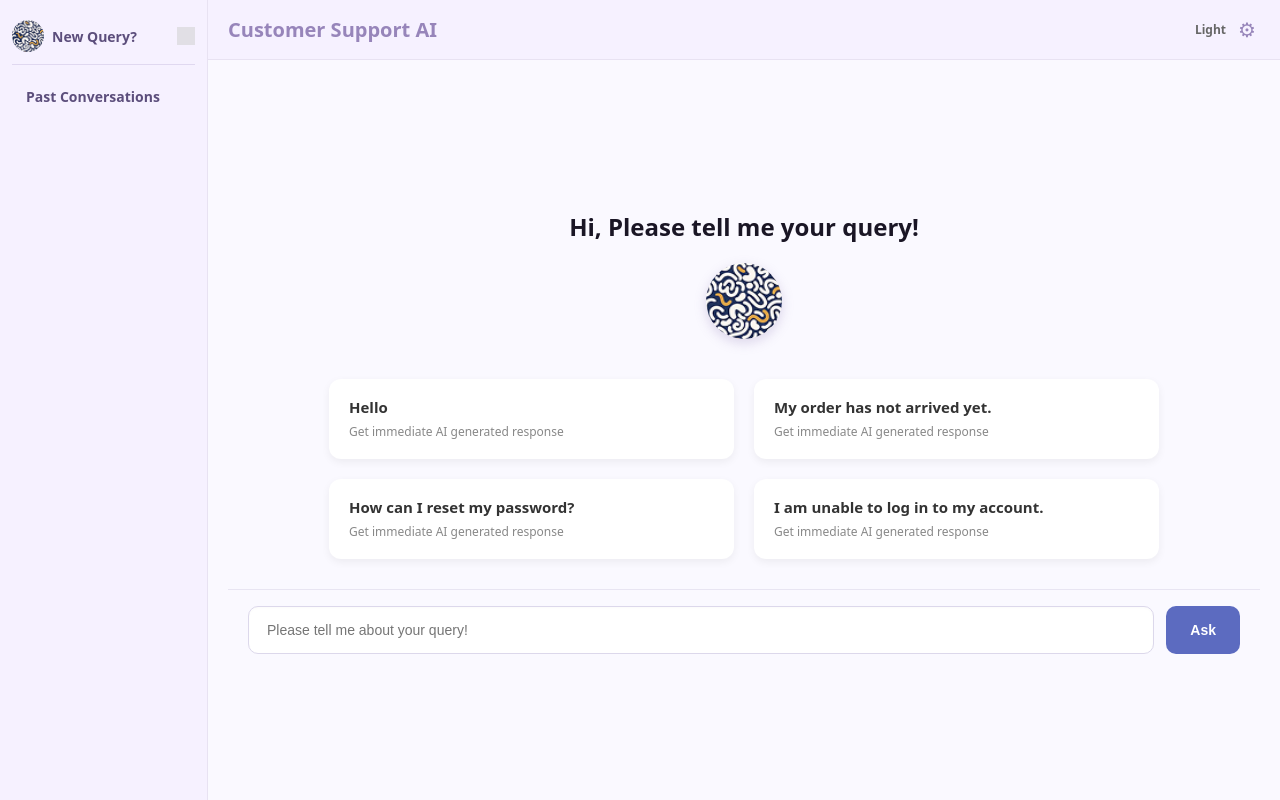
Test case: Customer Support AI - Full Test Suite › should return the correct static JSON response for contact support query
Type "How do I contact customer support?" into the field with placeholder "Please tell me about your query!".
click(701, 630); type("How do I contact customer support?")  # box [248,606,1154,654]
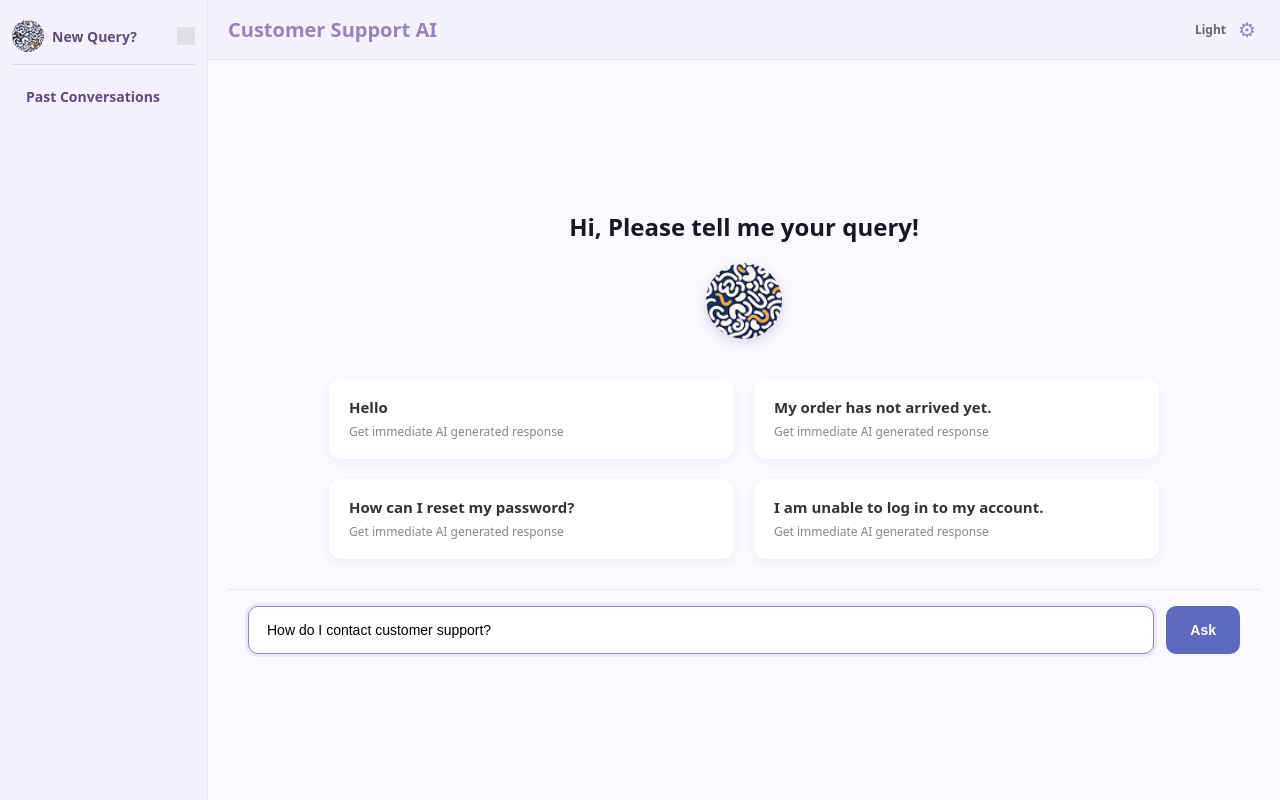
Click the submit button.
click(1203, 630)  # box [1166,606,1240,654]
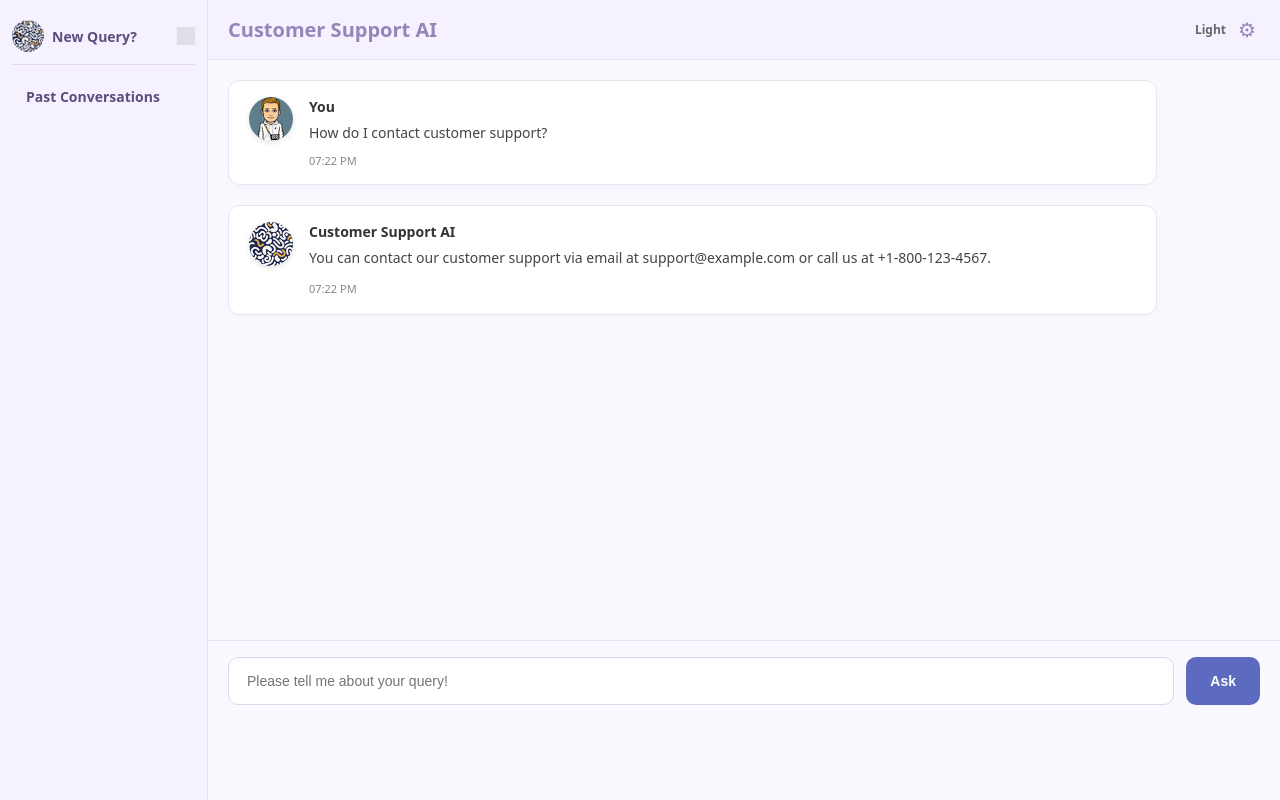
Check: the text "You can contact our customer support via email at support@example.com or call us at +1-800-123-4567." is shown, box [309,248,991,267]
